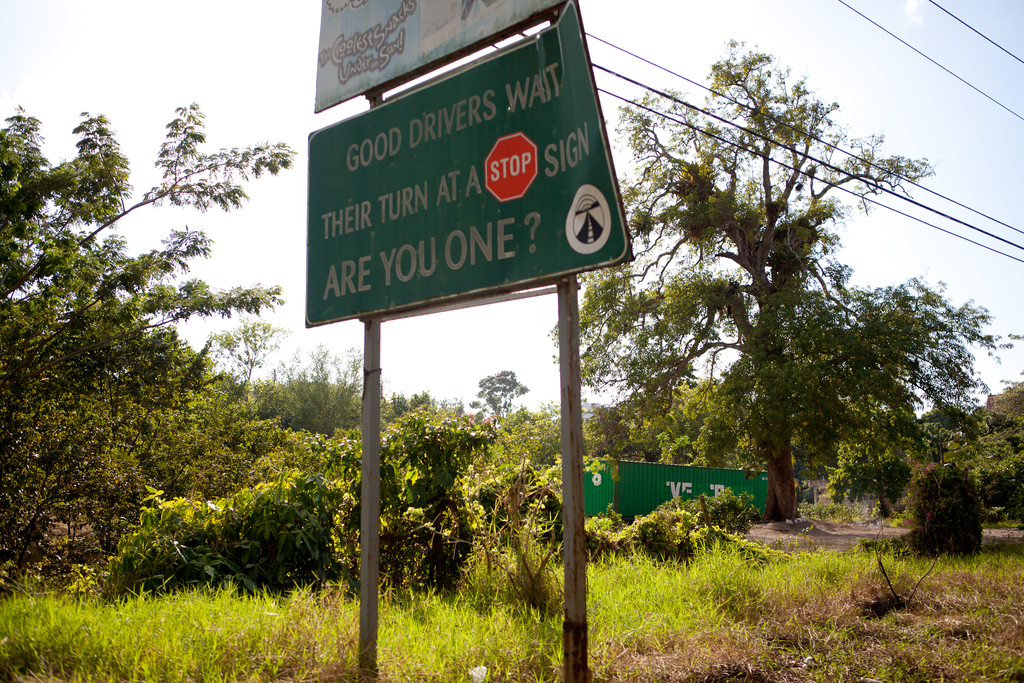stop: (482, 130, 540, 202)
yellow_light: (482, 131, 541, 204)
